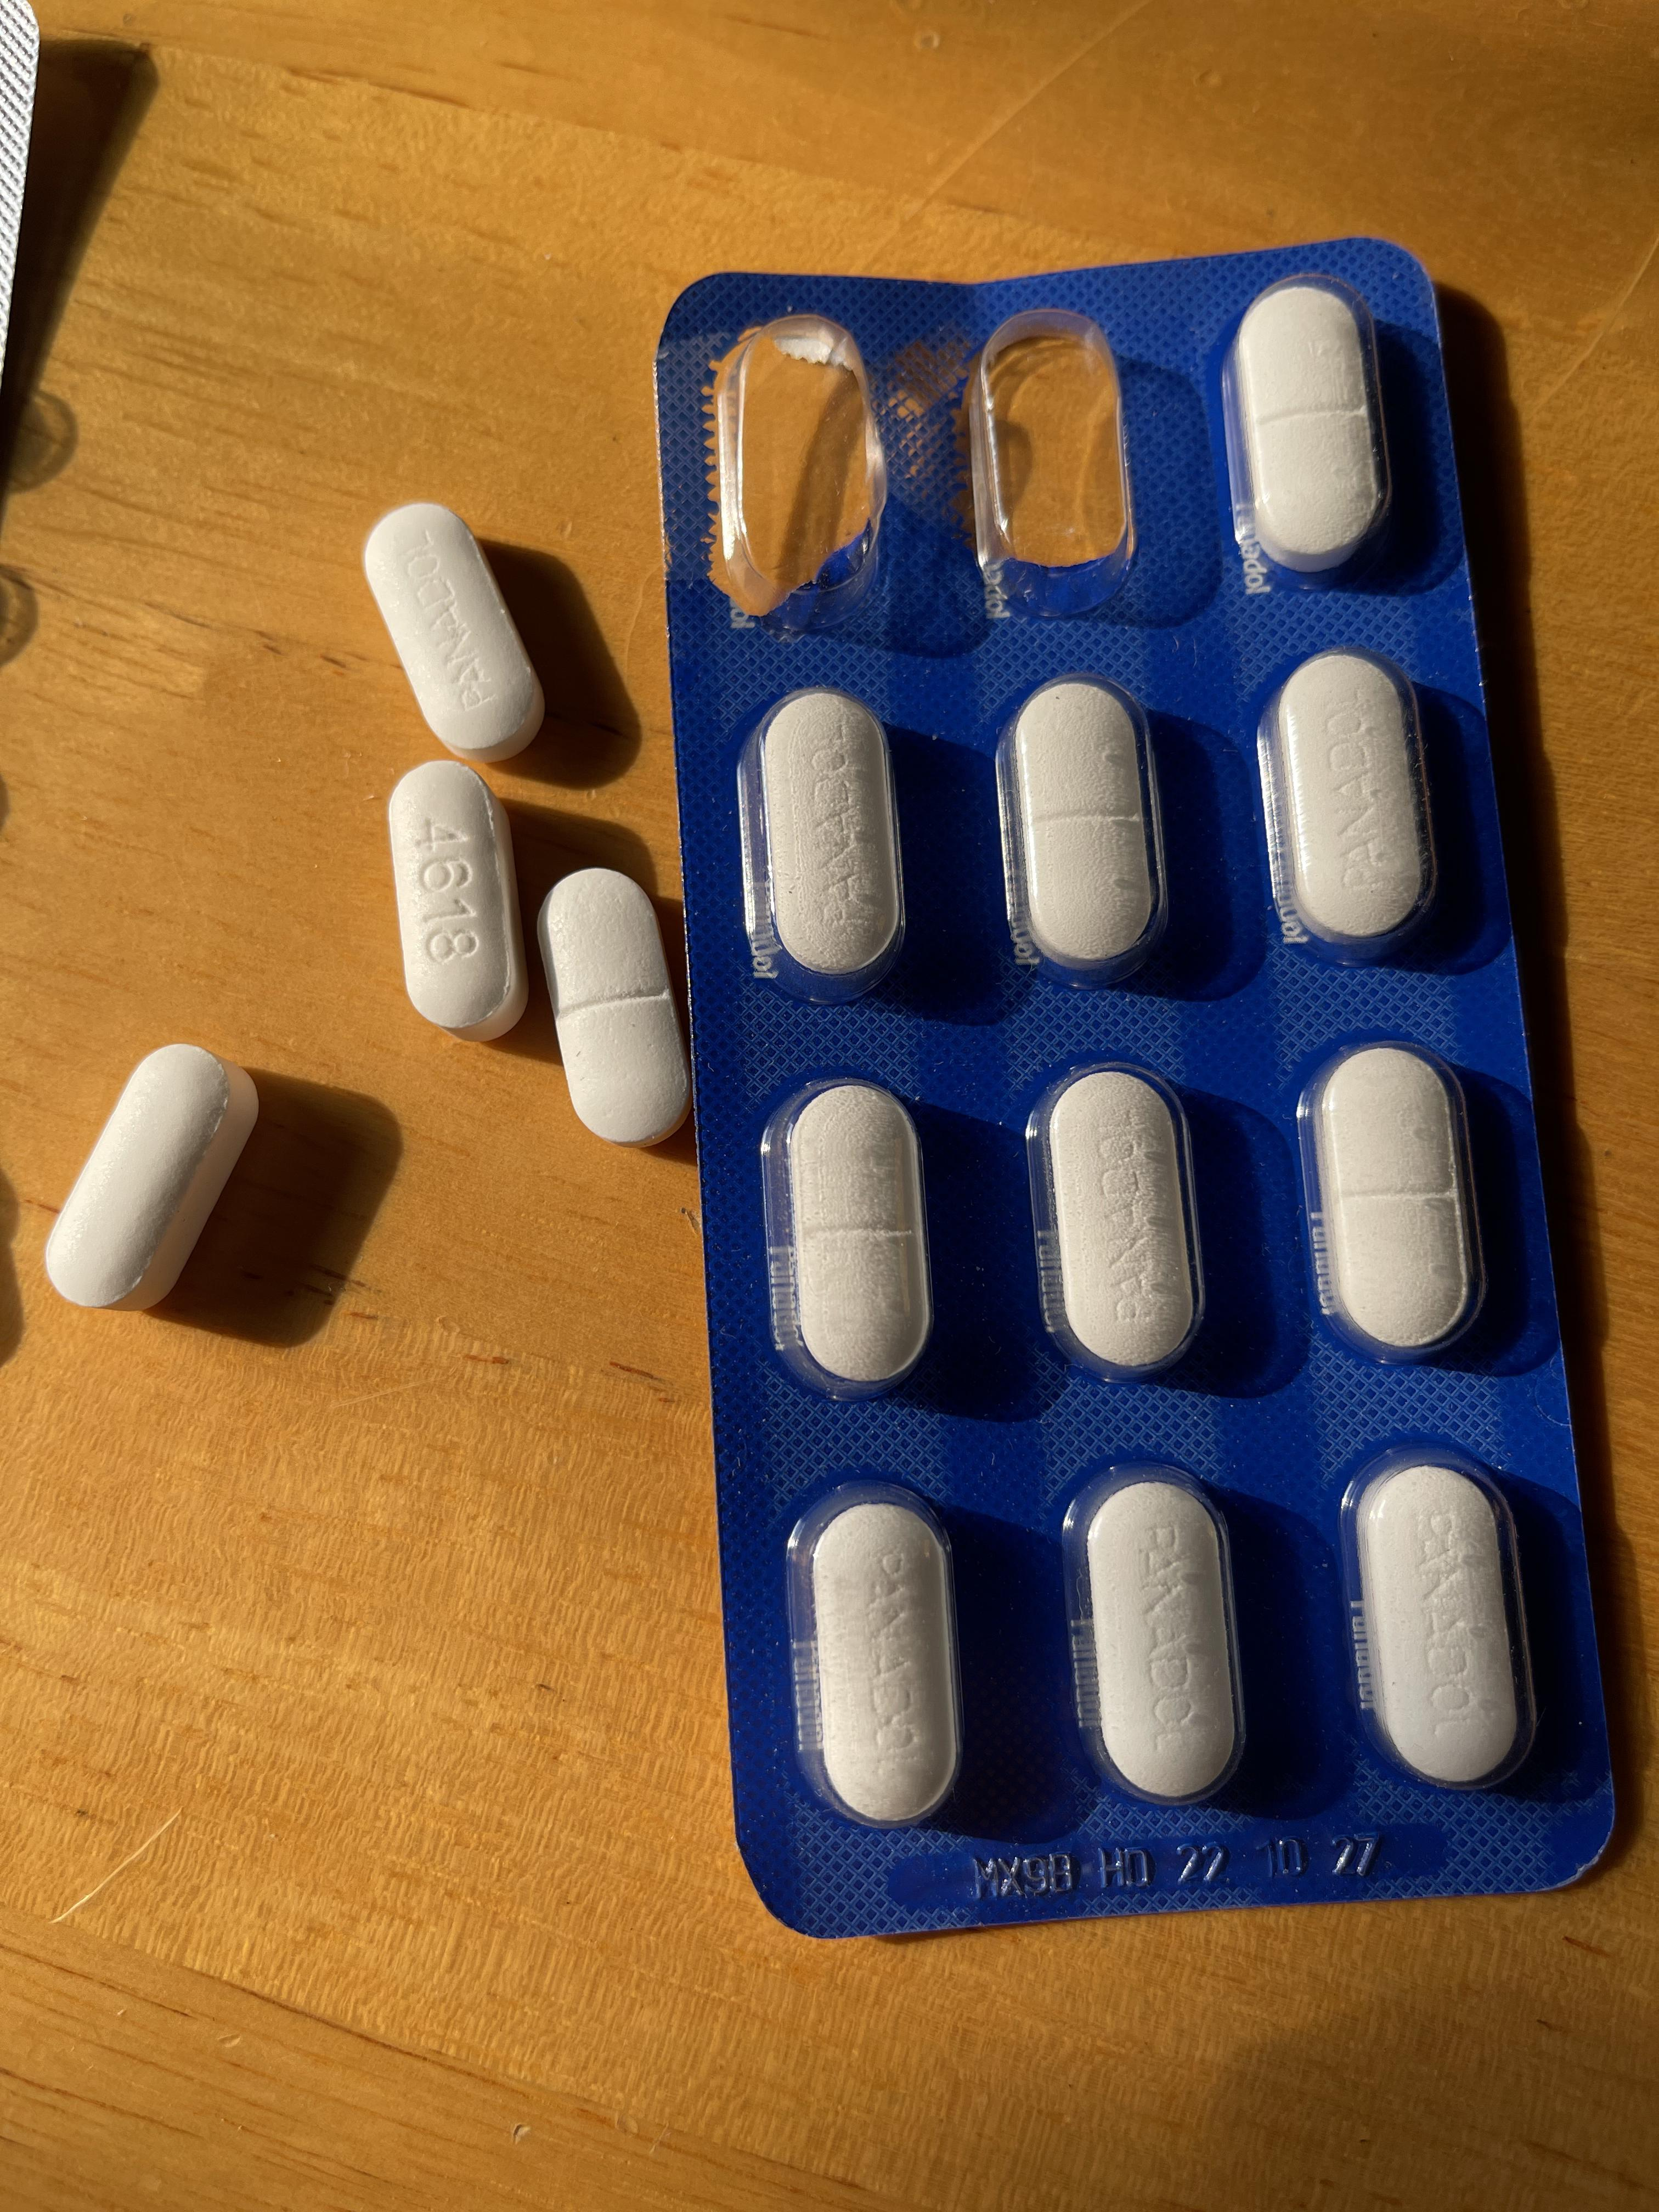Paracetamol_350mg: (1347, 1453, 1542, 1794), (1305, 1040, 1486, 1364), (1072, 1472, 1246, 1808), (798, 1491, 964, 1825), (1033, 1064, 1208, 1376), (1263, 651, 1439, 953), (1002, 678, 1168, 977), (751, 686, 915, 979), (1229, 280, 1391, 573), (777, 1108, 936, 1390), (364, 503, 540, 756), (540, 867, 690, 1143)
Paracetamol_500mg: (42, 1042, 258, 1303), (389, 761, 523, 1036)
